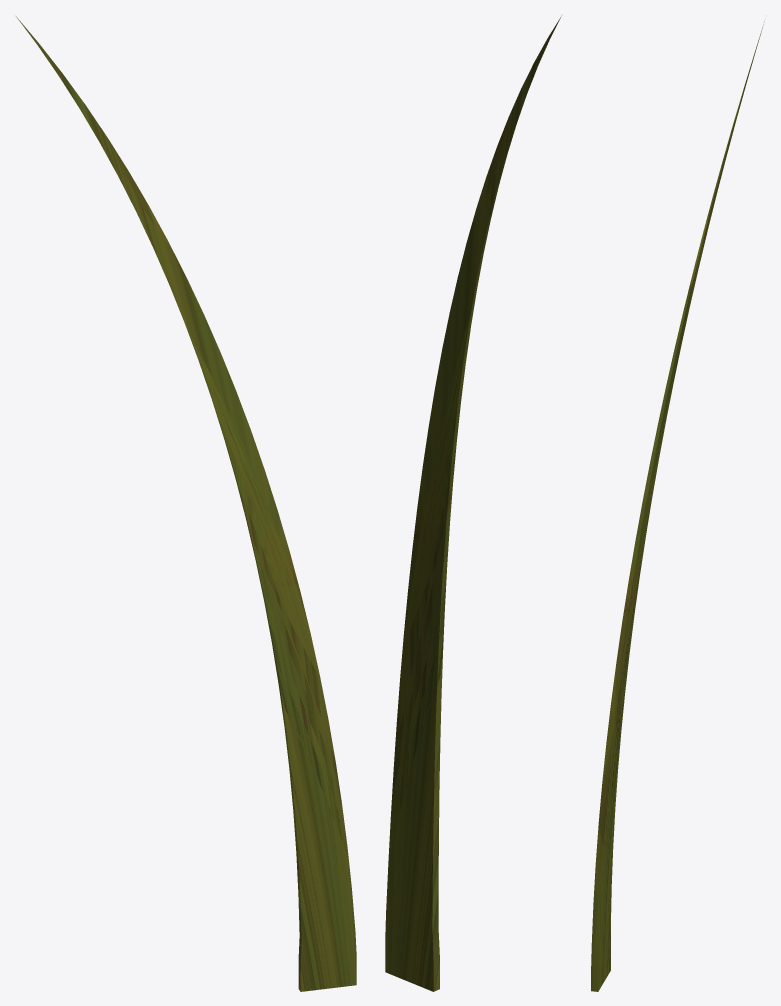
File: blatt1.fbx
The picture shows the model from 3 angles, left to right: view 1: azimuth 30°, elevation 25°; view 2: azimuth 150°, elevation 25°; view 3: azimuth 270°, elevation 25°; orthographic projection. The views are drawn at different scales.
Visible parts, largest first — view 1: pCube7; view 2: pCube7; view 3: pCube7.
Part boxes in pixels (x1,y1,x2,y2): pCube7: (16, 16, 356, 991); pCube7: (385, 16, 561, 991); pCube7: (591, 21, 764, 991).
Bounding box in the file's own units: 8.08 × 29.99 × 5.5.
